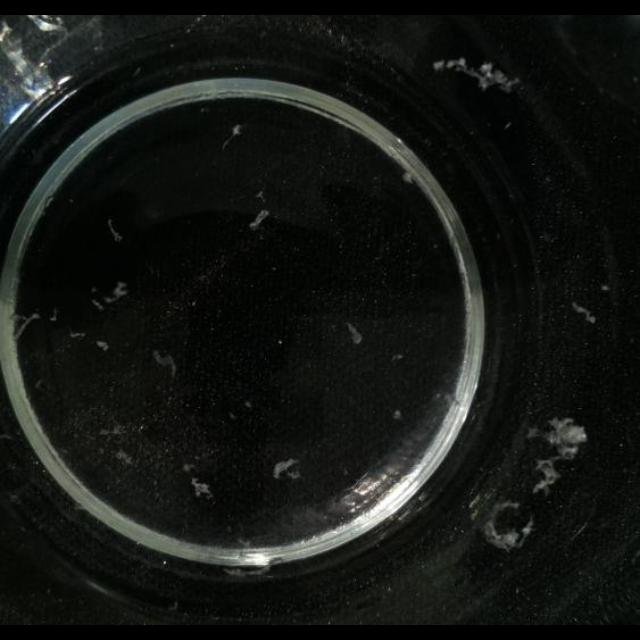Fibre: (478, 498, 536, 556), (436, 56, 520, 94), (9, 306, 75, 346), (540, 416, 588, 456), (532, 458, 564, 494), (96, 281, 130, 309), (152, 349, 178, 379), (13, 313, 42, 339), (273, 458, 301, 482), (190, 478, 214, 500), (249, 208, 271, 230), (222, 127, 242, 151), (346, 322, 364, 346), (107, 220, 123, 242), (115, 449, 135, 465), (402, 171, 416, 187), (95, 341, 109, 352), (256, 190, 266, 202)
microbeads: (572, 302, 598, 324), (392, 410, 402, 420), (602, 284, 610, 292)
